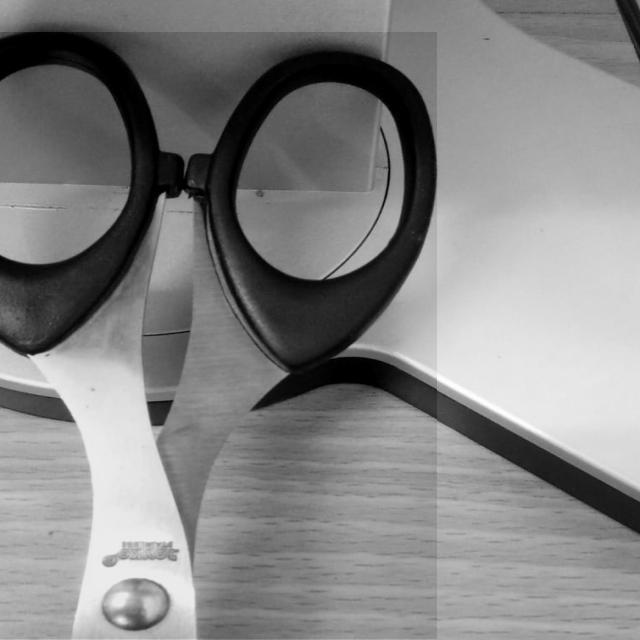tesoura: (0, 33, 437, 639)
